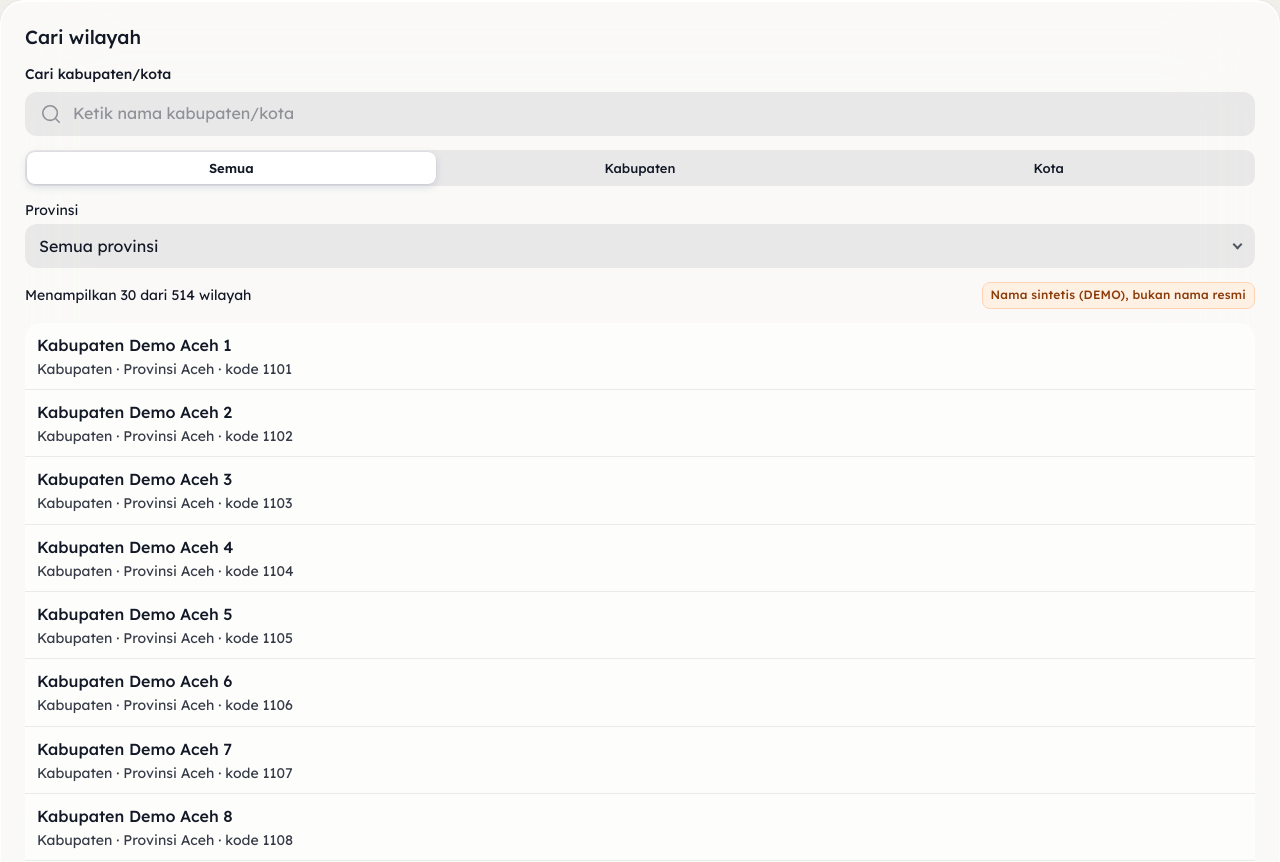
Scenario: RegionExplorer against the captured Data Hub responses › keeps kabupaten and kota apart and counts the filtered list as received
Expected: the text "Menampilkan 30 dari 514 wilayah" is shown, 25,285 -> 251,306
Click the button "Kota" at (1049, 168), box 844,152 -> 1253,184
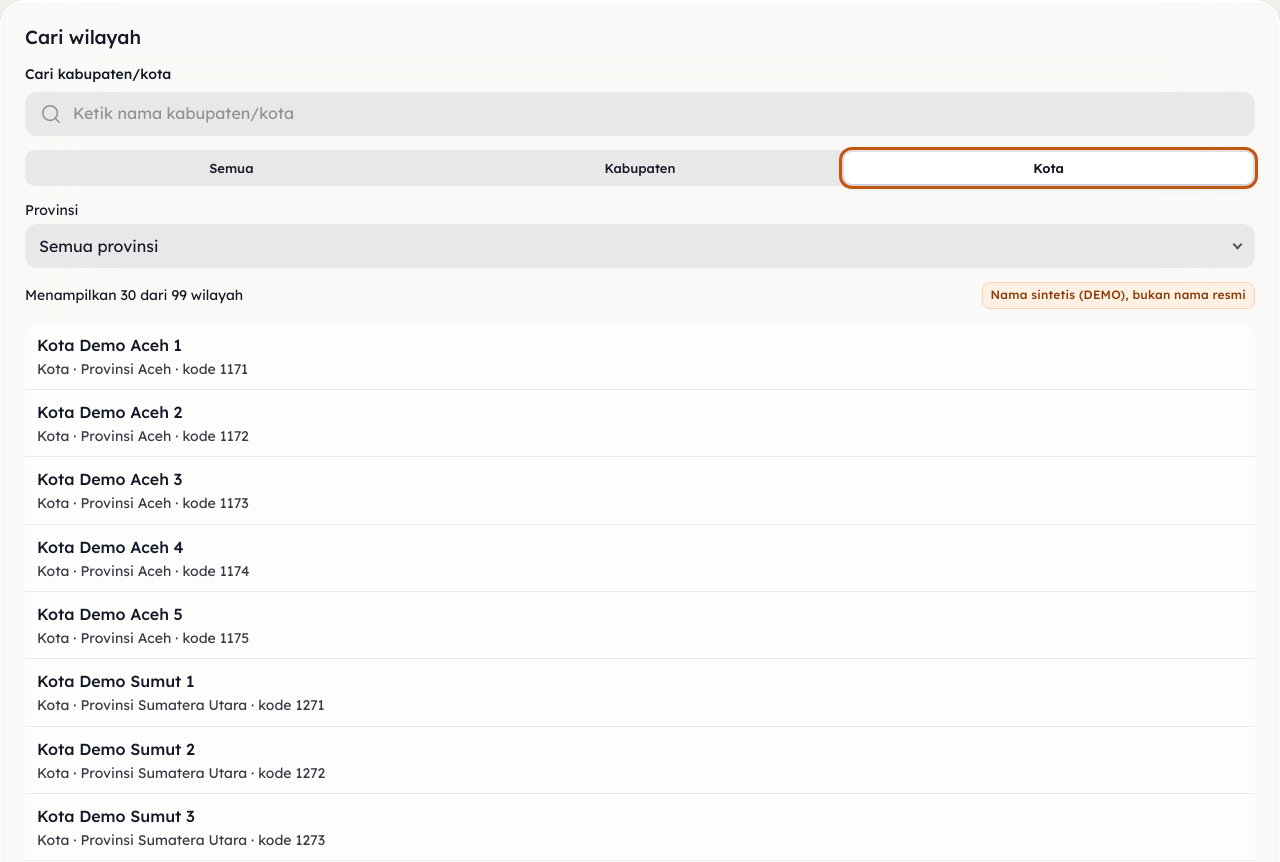
Now the text "Menampilkan 30 dari 99 wilayah" is shown, box 25,285 -> 243,306
Now the text "Kota · Provinsi Aceh · kode 1171" is shown, box 37,359 -> 248,379
Now the button "Kabupaten ·" is gone
